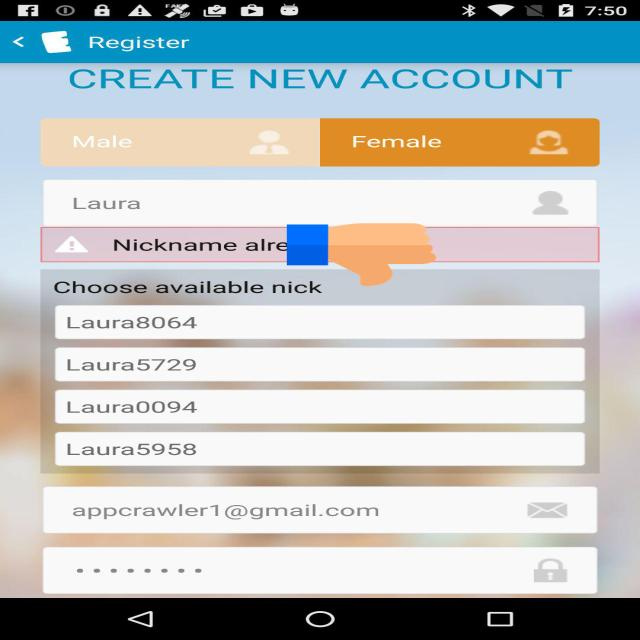obstruction: (287, 222, 436, 288)
